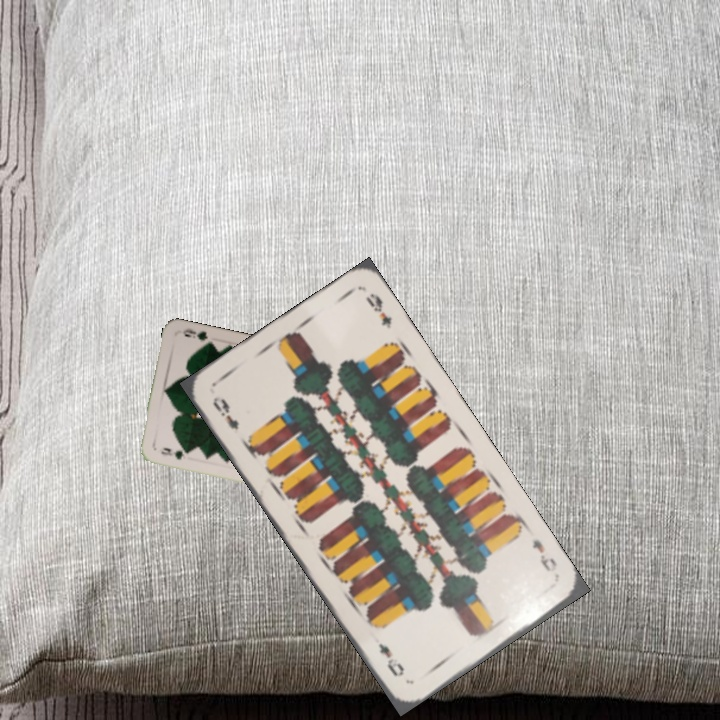E9: (208, 393, 242, 432), (528, 535, 560, 575)
G9: (157, 443, 192, 462)
